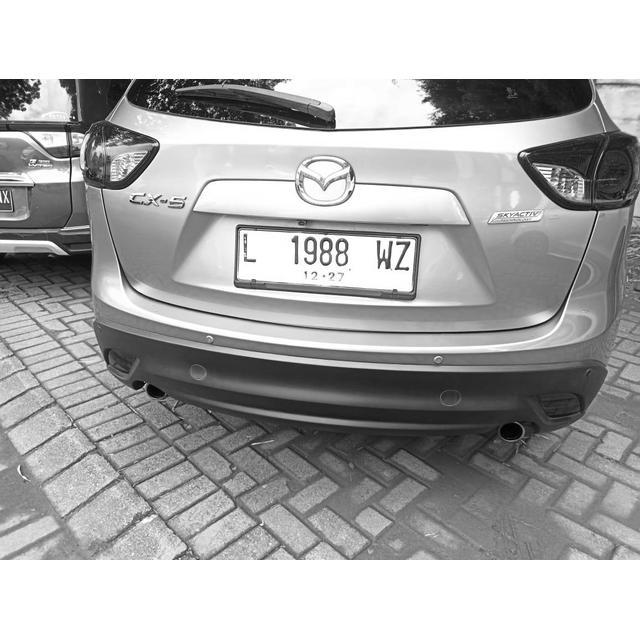license: (241, 231, 411, 286)
